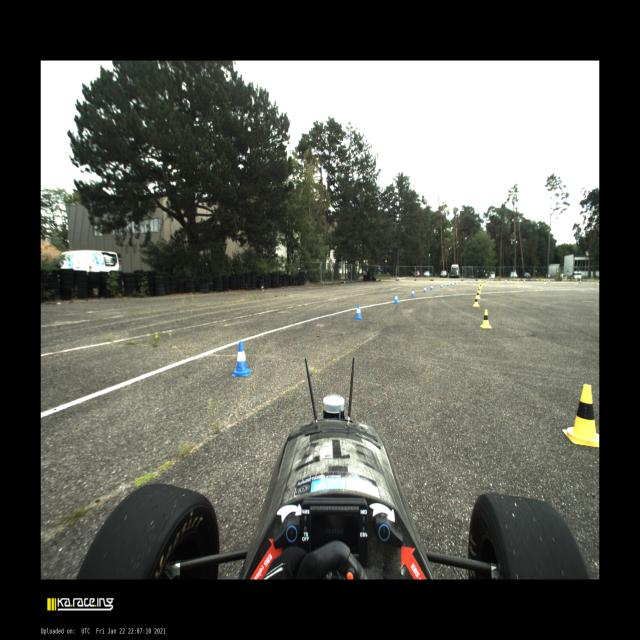blue_cone: (232, 342, 252, 376), (354, 304, 363, 320), (394, 294, 399, 304), (411, 288, 415, 296), (423, 286, 426, 293), (430, 284, 433, 290), (440, 283, 443, 288), (450, 280, 452, 286), (447, 281, 449, 286), (579, 279, 581, 284), (458, 280, 460, 284), (454, 280, 456, 284), (523, 279, 525, 283), (548, 280, 550, 283), (505, 279, 506, 283), (468, 280, 469, 283)
yellow_cone: (562, 385, 600, 447), (480, 310, 492, 328), (473, 296, 480, 307), (477, 290, 480, 299), (574, 280, 578, 284), (478, 288, 481, 293), (543, 280, 546, 284), (597, 280, 599, 285), (480, 284, 482, 288), (497, 280, 499, 284), (516, 280, 518, 284), (484, 280, 485, 284), (486, 280, 487, 283)
